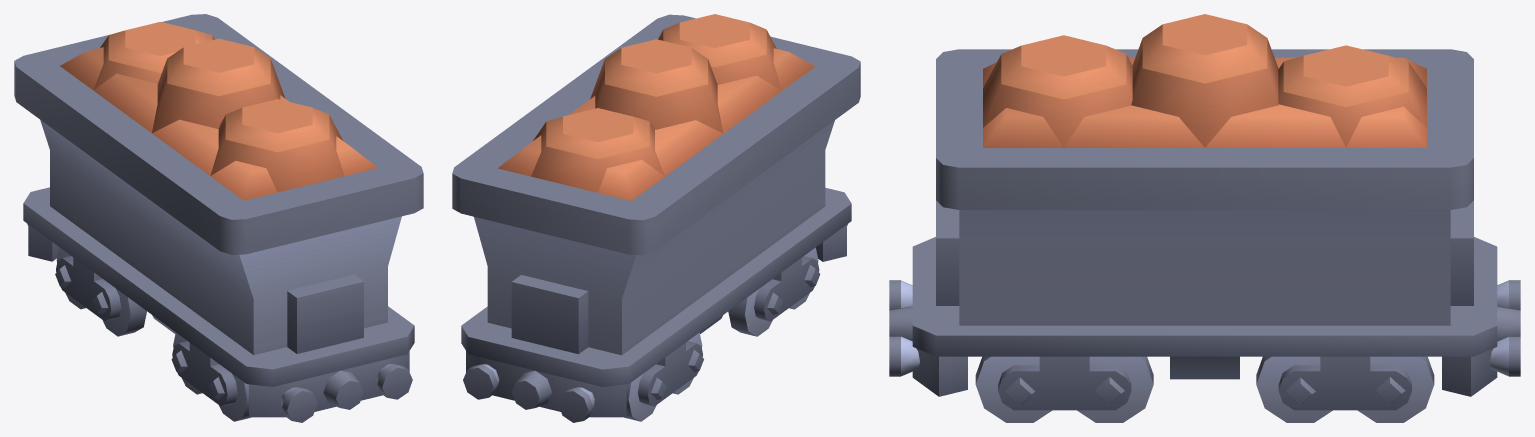
Rendered from kenney-train-train-carriage-dirt.glb.
3 renders of one model, left to right at view 1: azimuth 30°, elevation 25°; view 2: azimuth 150°, elevation 25°; view 3: azimuth 270°, elevation 25°, orthographic. The views are drawn at different scales.
Visible parts, largest first — view 1: train-carriage-dirt; view 2: train-carriage-dirt; view 3: train-carriage-dirt.
Part boxes in pixels (x1,y1,x2,y2): train-carriage-dirt: (14, 14, 423, 422); train-carriage-dirt: (452, 14, 860, 422); train-carriage-dirt: (889, 14, 1520, 422).
Size of the model in its own units: 1.2 by 1.65 by 2.7.
Materials: 1 (1 with a texture image).
